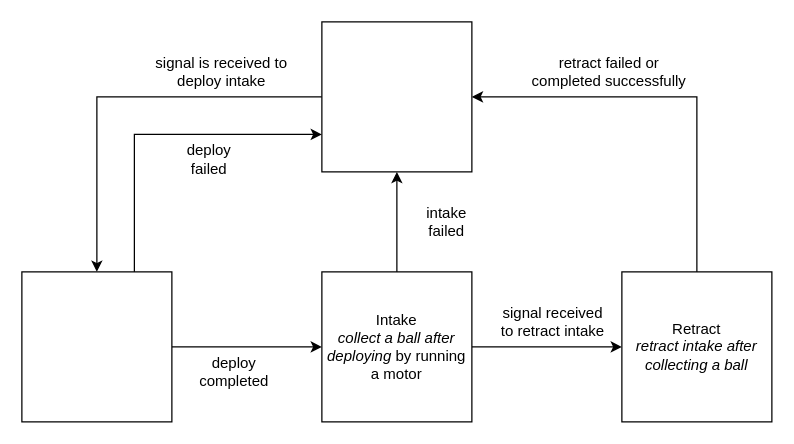
Image size: 794x444. Some labels were removed from this diagram. The box of each missing label's shape, as (x1, y1, x2, y2) in pixels:
Deploy deploy intake to get ready to collect a ball: (21, 271, 172, 422)
OFF: (321, 21, 472, 172)
